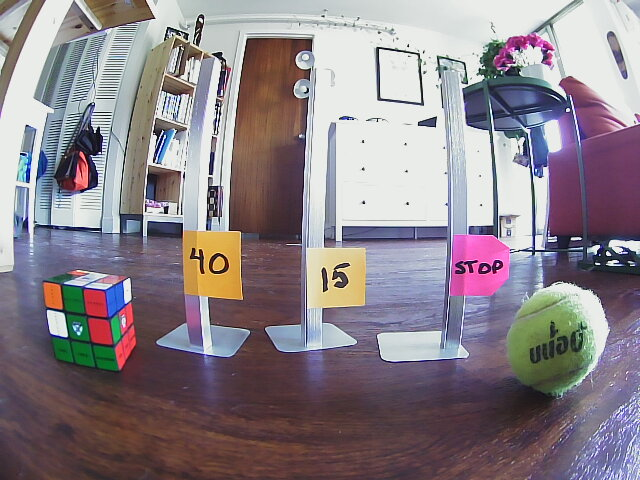15: (307, 248, 364, 304)
40: (183, 230, 242, 298)
ball: (513, 281, 607, 391)
cube: (41, 269, 138, 370)
stop: (453, 237, 509, 294)
